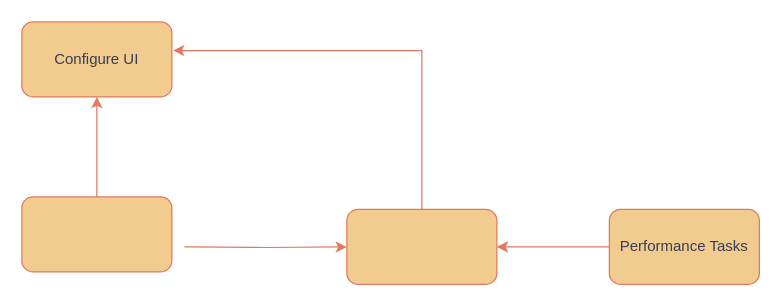
This 781x306 diagram has some shape labels left out. The centre of each missing label's shape, as x and y in pixels:
Gateway Device App: point (96, 234)
System Performance Monitor: point (421, 246)
